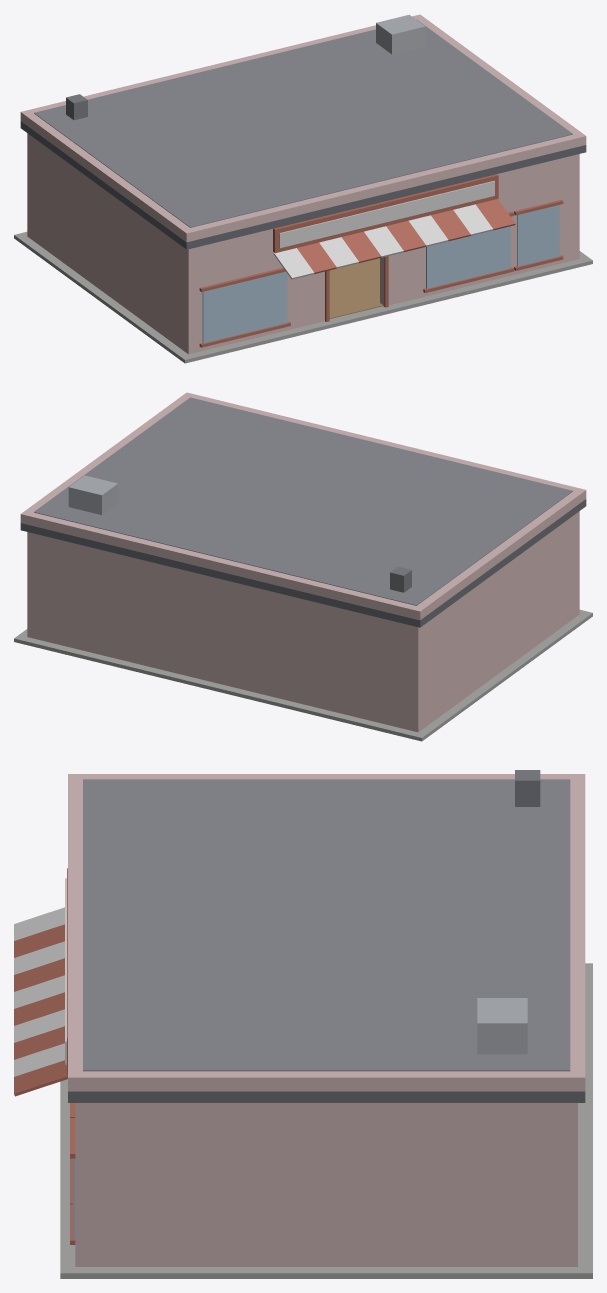
The model's file is Dukkan_Restoran.glb.
3 views of the same model, one above another, from view 1: azimuth 30°, elevation 25°; view 2: azimuth 150°, elevation 25°; view 3: azimuth 270°, elevation 25° (orthographic). The views are drawn at different scales.
Parts seen in each view (by area): view 1: Dukkan_Restoran; view 2: Dukkan_Restoran; view 3: Dukkan_Restoran.
Boxes of the visible parts, x1,y1,x2,y2 form: Dukkan_Restoran: (14, 14, 592, 363); Dukkan_Restoran: (14, 392, 592, 741); Dukkan_Restoran: (14, 770, 592, 1278).
Size of the model in its own units: 14.6 by 5.05 by 11.52.
